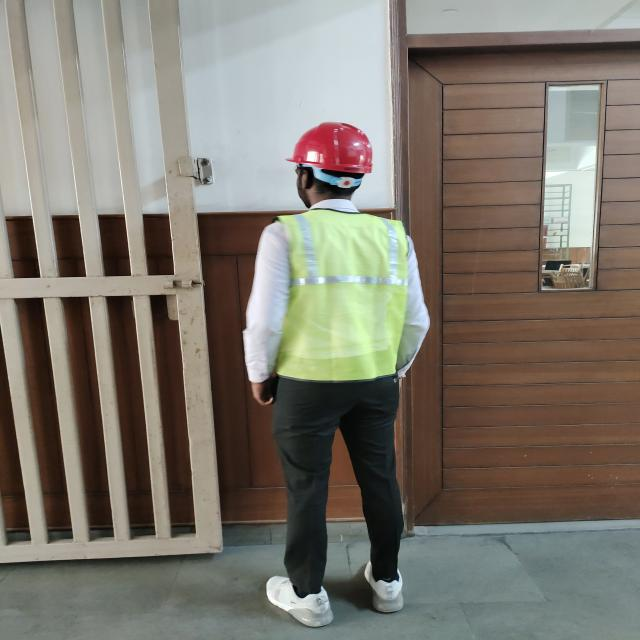safe: (244, 122, 429, 632)
